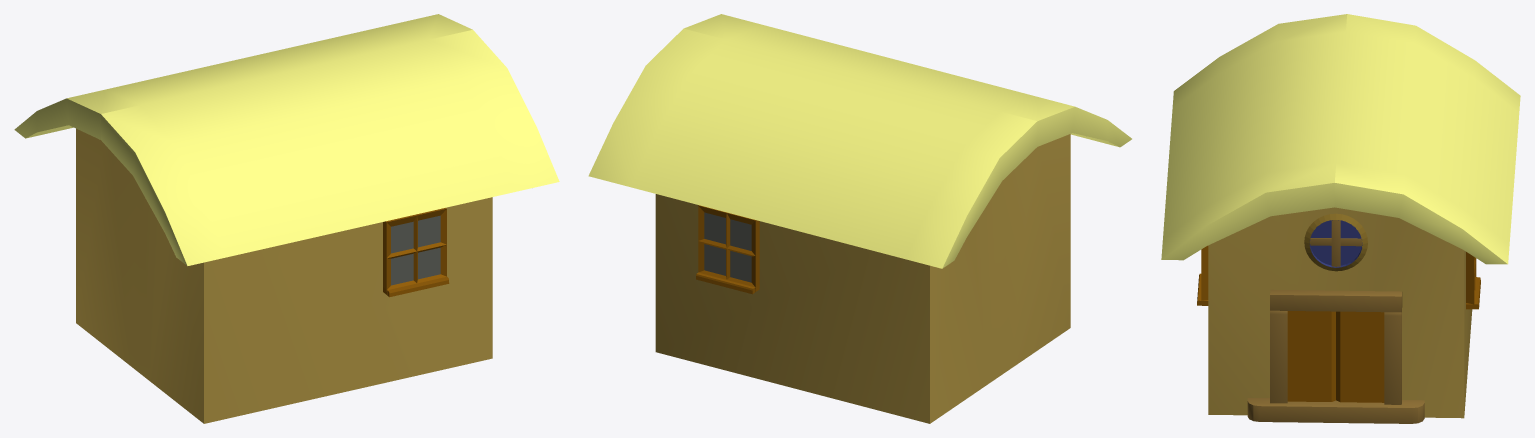
Rendered from house2.fbx.
3 views of the same model, side by side, from view 1: azimuth 30°, elevation 25°; view 2: azimuth 150°, elevation 25°; view 3: azimuth 270°, elevation 25° (orthographic). The views are drawn at different scales.
Parts seen in each view (by area): view 1: HOUSEsmall; view 2: HOUSEsmall; view 3: HOUSEsmall.
Part boxes in pixels (x1,y1,x2,y2): HOUSEsmall: (14, 14, 559, 423); HOUSEsmall: (588, 14, 1131, 423); HOUSEsmall: (1161, 14, 1520, 423).
Bounding box in the file's own units: 663 × 453 × 581.
